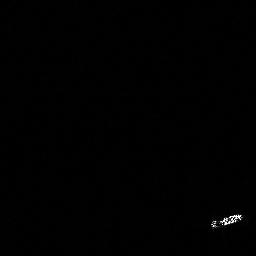ship: (210, 212, 244, 231)
